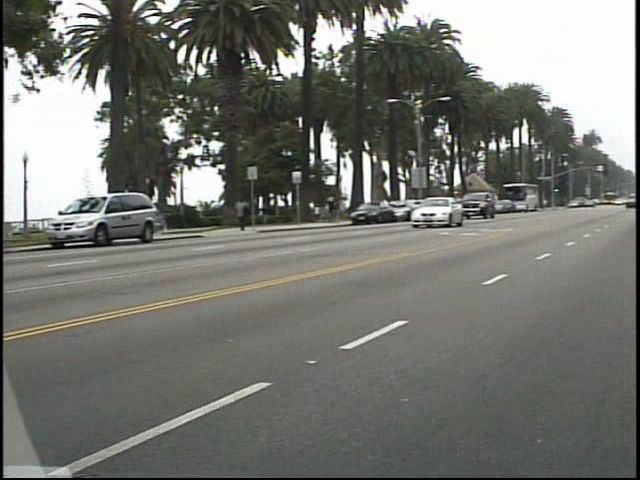person: (239, 192, 261, 231), (330, 189, 349, 223)
